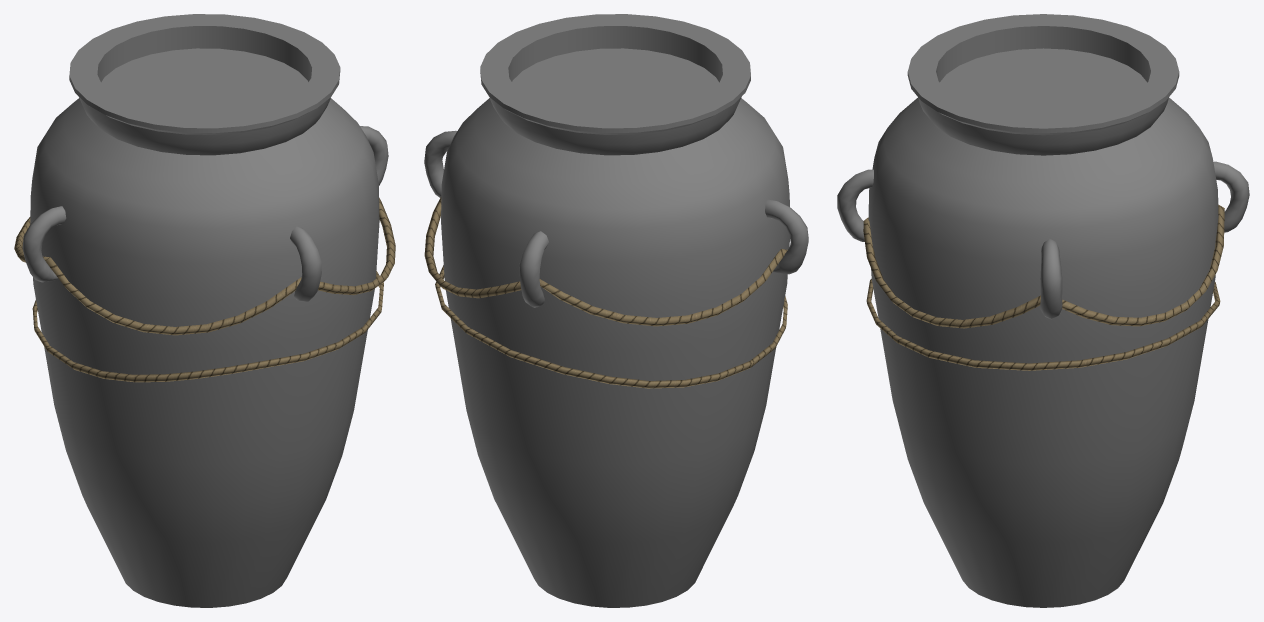
Rendered from SM_pottery_large_01.fbx.
3 views of the same model, side by side, from view 1: azimuth 30°, elevation 25°; view 2: azimuth 150°, elevation 25°; view 3: azimuth 270°, elevation 25° (orthographic).
Visible parts, largest first — view 1: Cylinder015; view 2: Cylinder015; view 3: Cylinder015.
Part boxes in pixels (x1=…): Cylinder015: x1=14, y1=14, x2=395, y2=607; Cylinder015: x1=424, y1=14, x2=808, y2=607; Cylinder015: x1=837, y1=14, x2=1249, y2=607.
Size of the model in its own units: 42.64 by 54.71 by 40.77.
